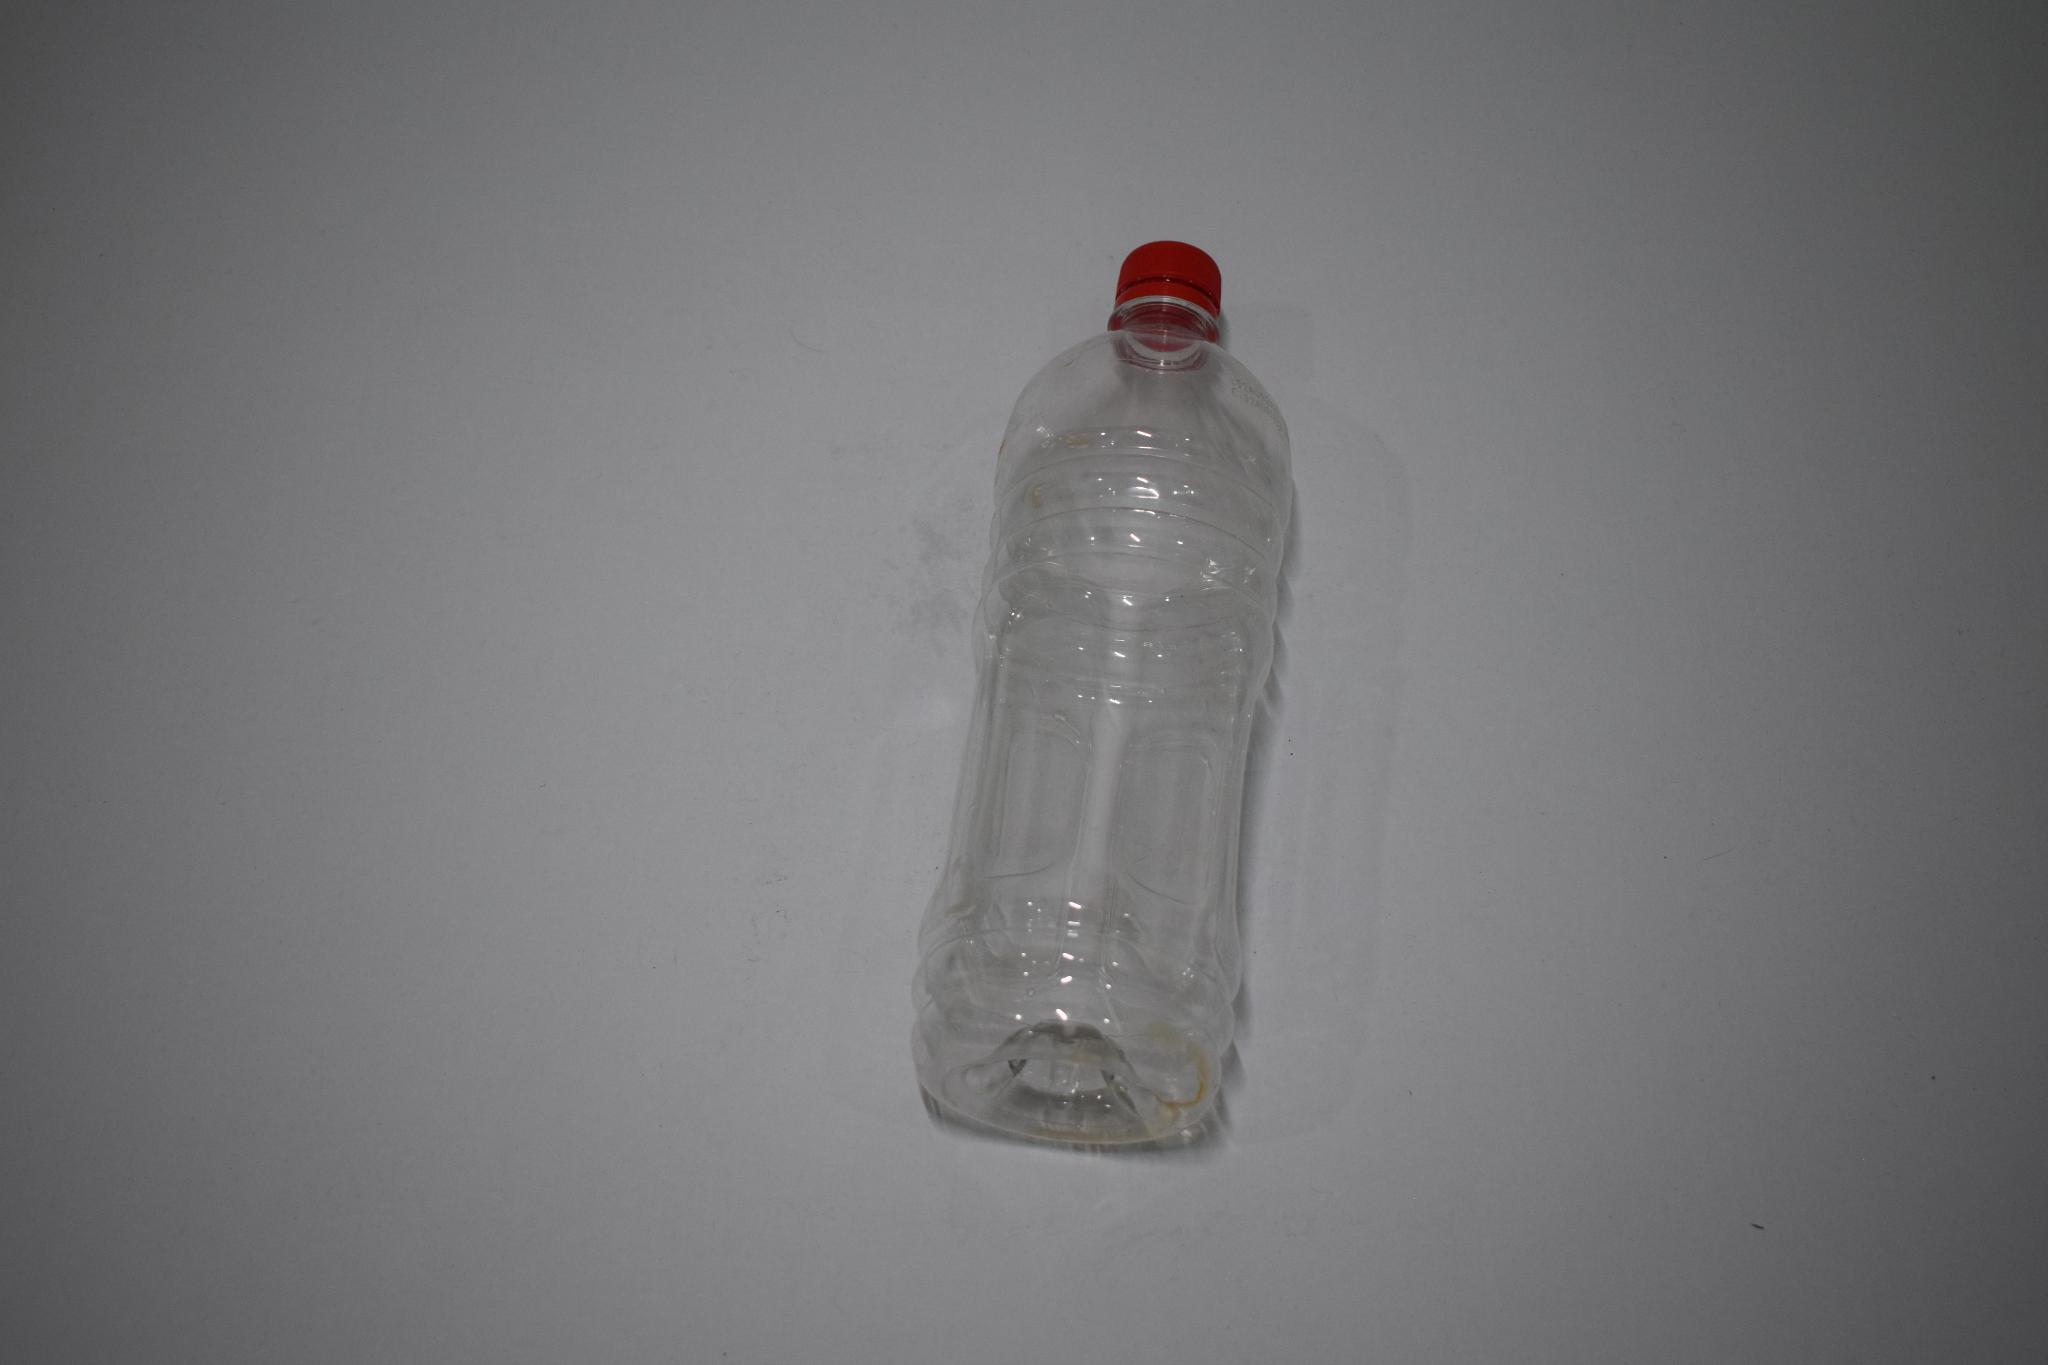bottle: (879, 245, 1325, 1176)
